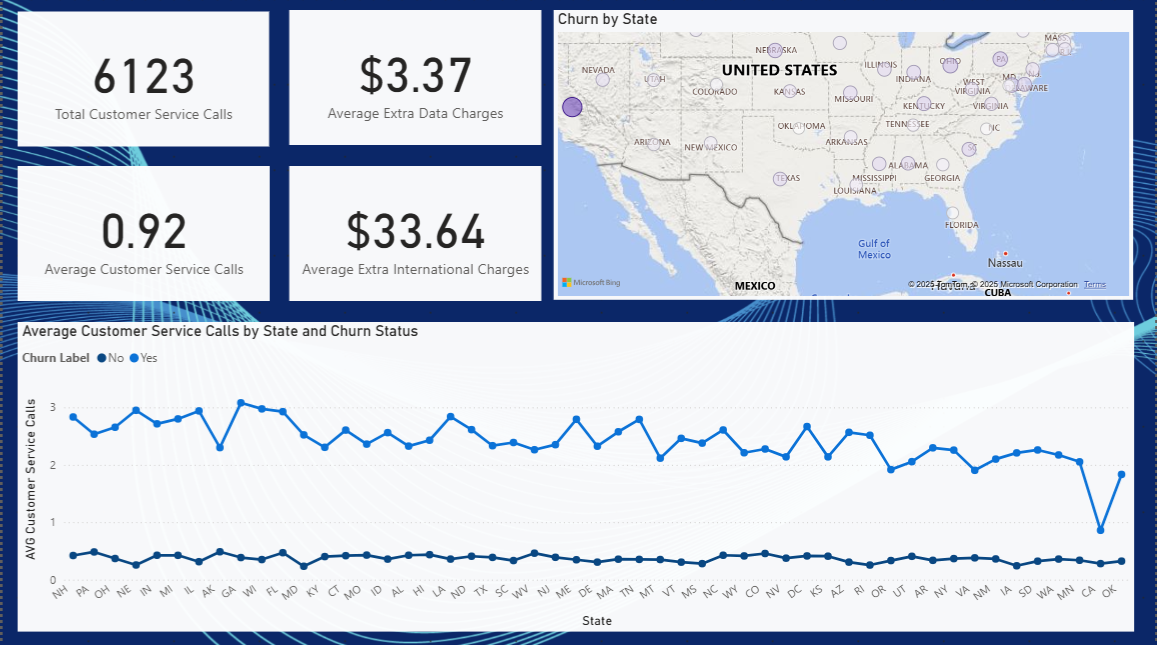

Layout of this report page (visuals, bound fields, positions):
{"tool":"powerbi","page":{"name":"Insights","canvas":[1280,720],"ordinal":15},"visuals":[{"type":"card","fields":{"Values":["Databel - Data.AVG Extra Data Charges"]},"box":[318,14,280,150],"z":0},{"type":"card","fields":{"Values":["Databel - Data.AVG Extra International Charges"]},"box":[318,186,280,150],"z":1000},{"type":"card","fields":{"Values":["Sum(Databel - Data.Customer Service Calls)"]},"box":[17,14.2,279.6,149.9],"z":2000},{"type":"card","fields":{"Values":["Databel - Data.AVG Customer Service Calls"]},"box":[16,186,280,150],"z":3000},{"type":"lineChart","title":"Average Customer Service Calls by State and Churn Status","fields":{"Category":["Databel - Data.State"],"Y":["Databel - Data.AVG Customer Service Calls"],"Series":["Databel - Data.Churn Label"]},"box":[16,360,1240,344],"z":4000},{"type":"map","title":"Churn by State","fields":{"Size":["Databel - Data.Churn Rate"],"Category":["Databel - Data.State"]},"box":[612,14,644,322],"z":5000}]}

Visuals, with their boxes in screenshot pixels (x1, y1, x2, y2), scaled from the page's 1280x720 canvas onto the 1157x645 screenshot:
card - Databel - Data.AVG Extra Data Charges: l=287, t=13, r=541, b=147
card - Databel - Data.AVG Extra International Charges: l=287, t=167, r=541, b=301
card - Sum(Databel - Data.Customer Service Calls): l=15, t=13, r=268, b=147
card - Databel - Data.AVG Customer Service Calls: l=14, t=167, r=268, b=301
"Average Customer Service Calls by State and Churn Status" lineChart: l=14, t=322, r=1135, b=631
"Churn by State" map: l=553, t=13, r=1135, b=301
